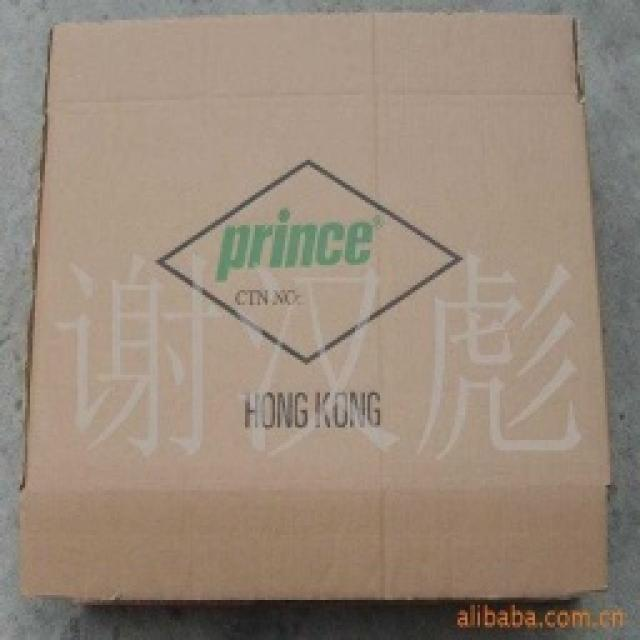box: (35, 16, 622, 616)
